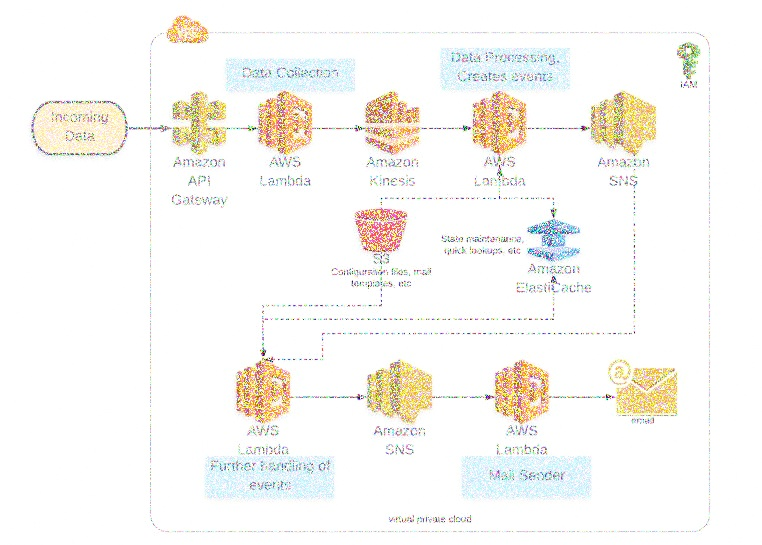API-Gateway: (169, 87, 232, 157)
ElastiCache: (523, 213, 582, 263)
Email: (602, 350, 688, 419)
IAM: (669, 37, 706, 84)
Kinesis Data Streams: (362, 85, 426, 158)
Lambda: (488, 356, 556, 427), (468, 85, 532, 159), (230, 360, 299, 425), (254, 87, 317, 157)
S3: (350, 201, 412, 255)
SNS: (362, 355, 437, 430), (589, 86, 664, 159)
